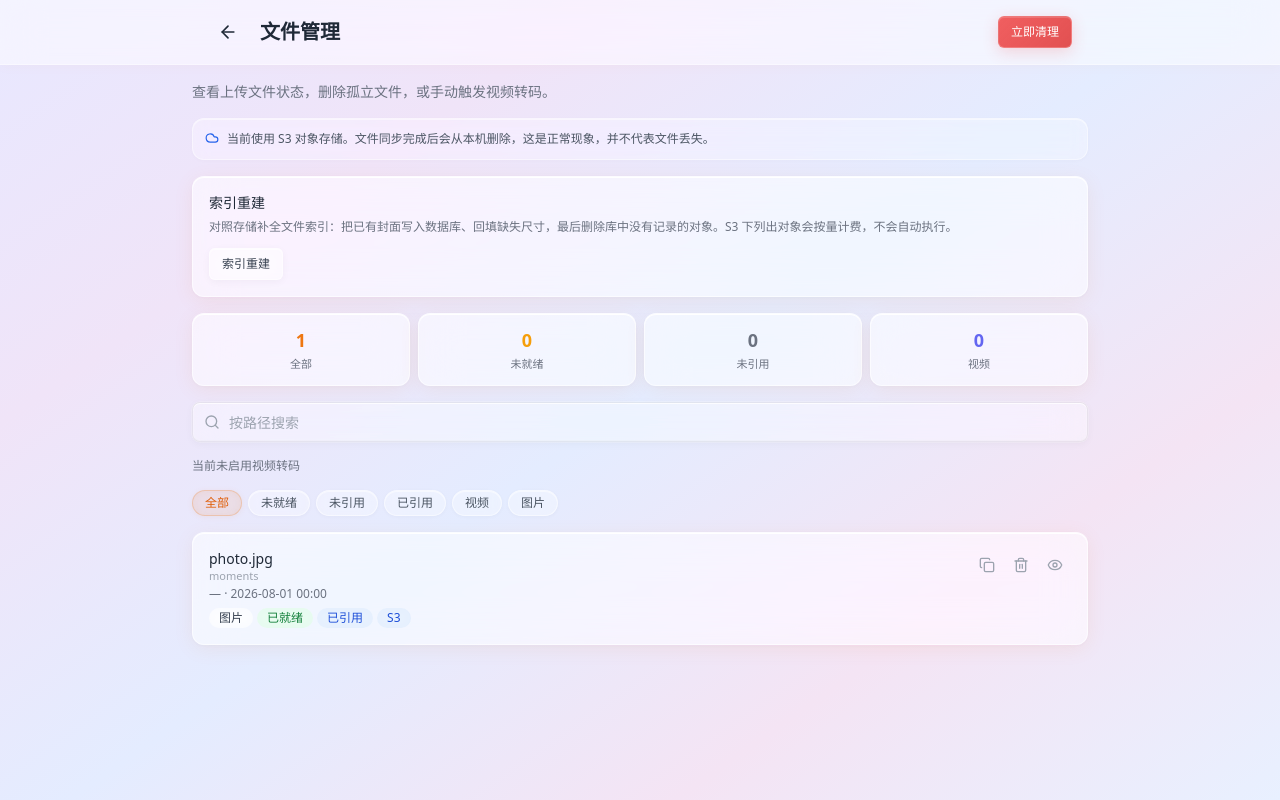
it: AdminFilesSection S3 storage › rebuilds the storage index only after confirm
Click the button "索引重建" at (246, 264), box [209,248,283,280]
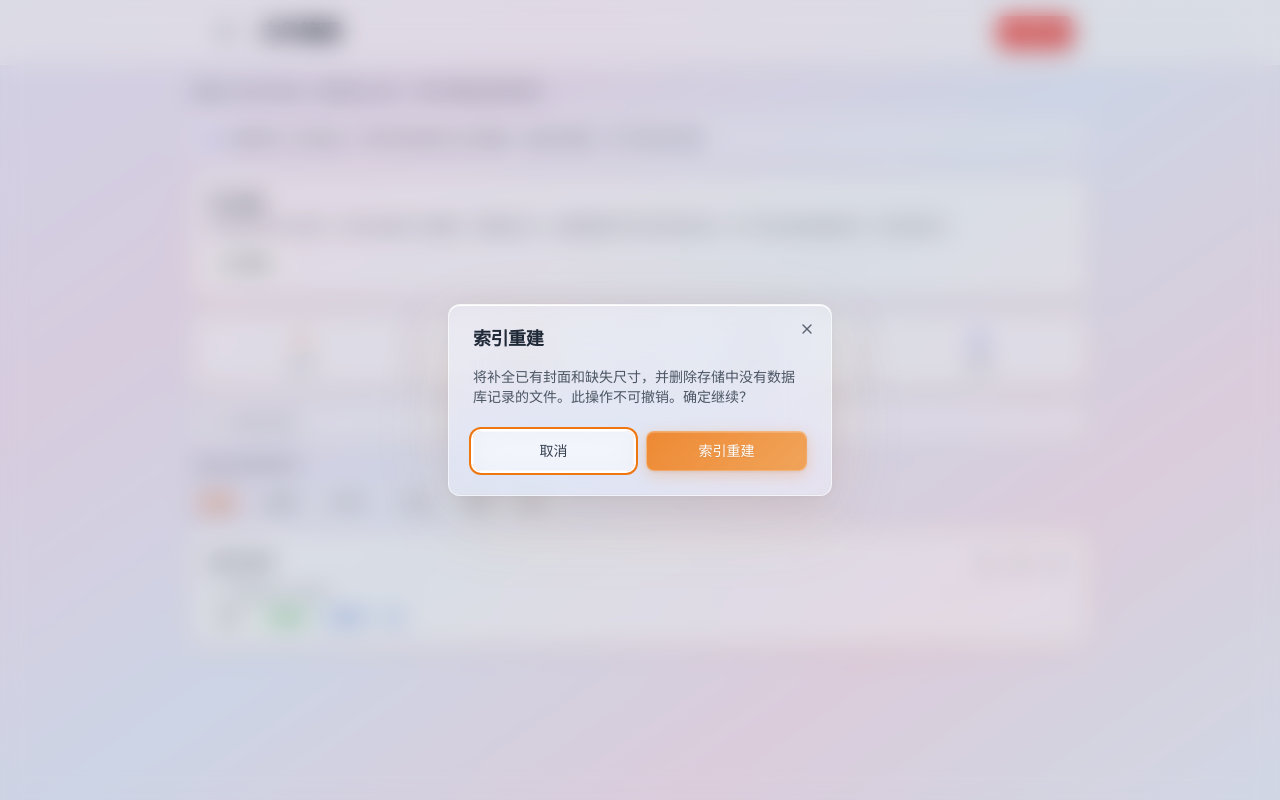
Click the button "索引重建" at (726, 451), box [646,431,807,471]
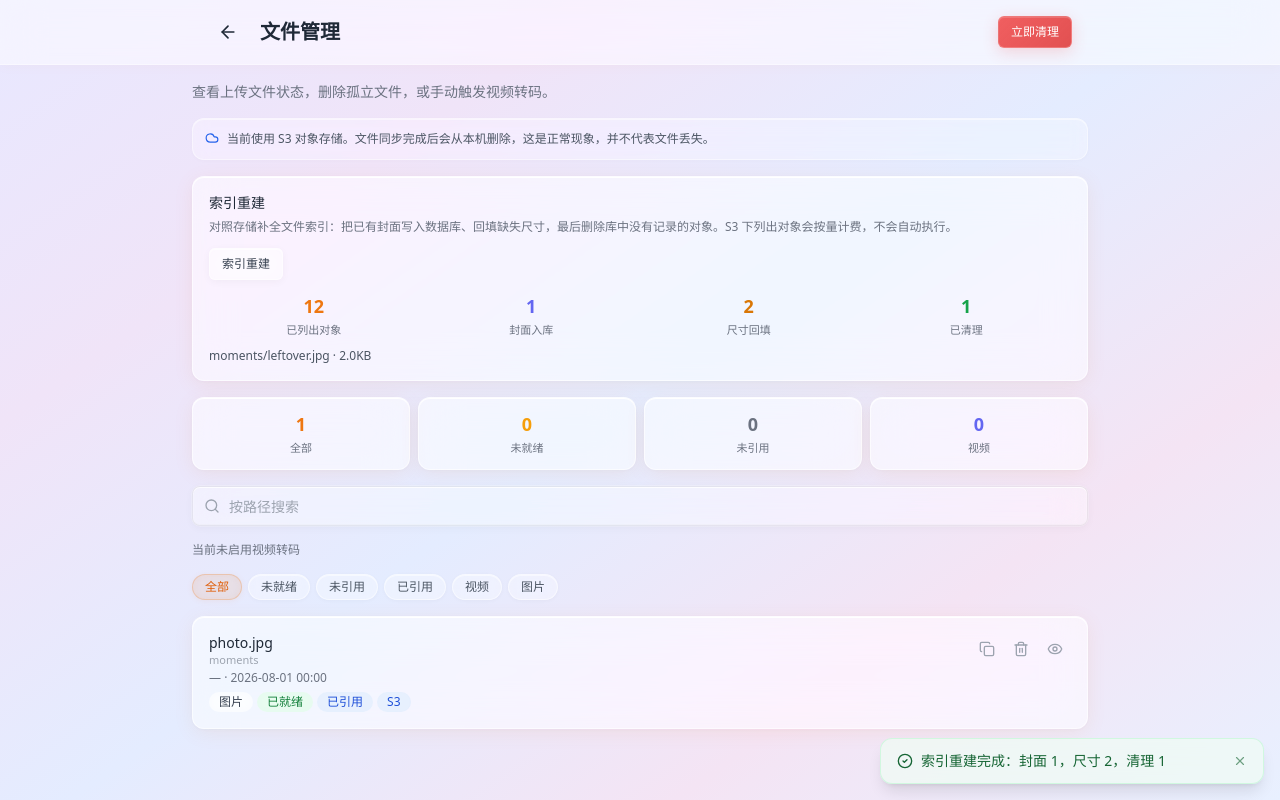
Expected: the text "moments/leftover.jpg · 2.0KB" is shown, [209,347,371,364]
Expected: the text "封面入库" is shown, [509,322,553,337]
Expected: the text "尺寸回填" is shown, [727,322,771,337]
